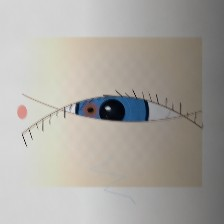foreign_body_visible: (75, 97, 106, 123)
